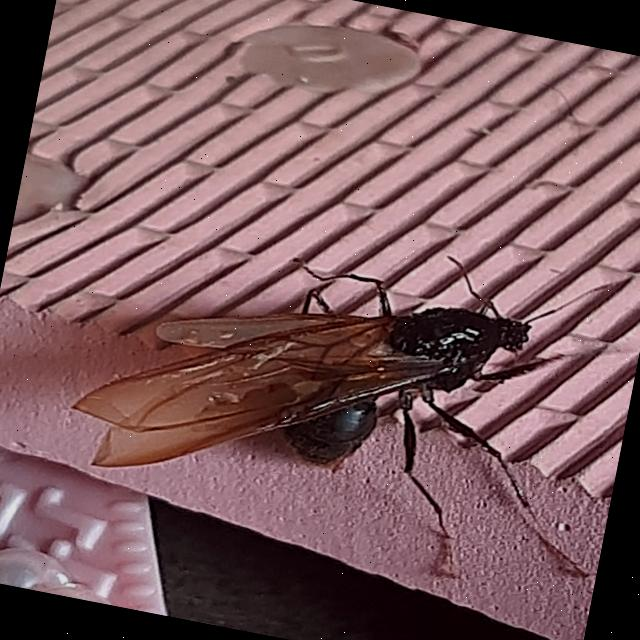Alive-Male-Alate: (54, 190, 640, 604)
